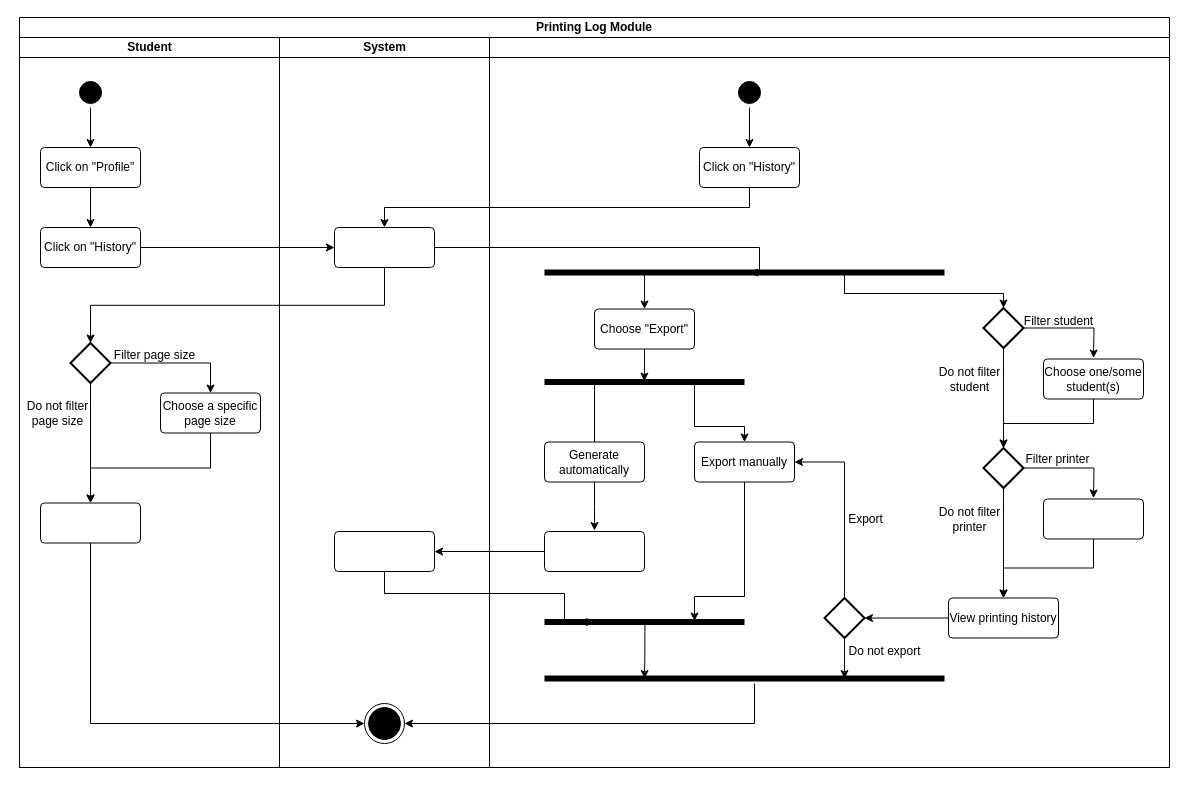
Some shapes in this 1187 by 785 pixel diagram are drawn without their labels. Here are the shapes that lost their labels. From the top down, the box of each, then its label:
(334, 226, 434, 268): Access database
(488, 36, 1170, 768): SPSO
(40, 502, 140, 543): View History
(1042, 498, 1144, 539): Choose one/some printer(s)
(334, 530, 434, 572): Record the order
(544, 530, 644, 572): Set date and other options
